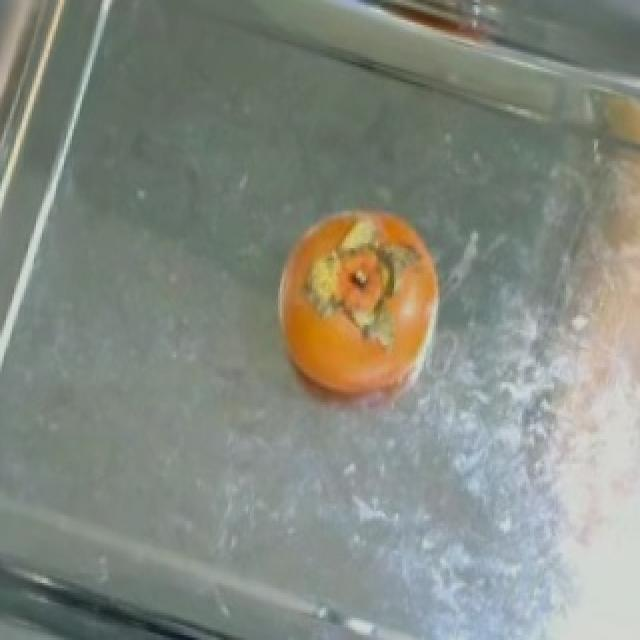Fruit: (258, 184, 462, 429)
